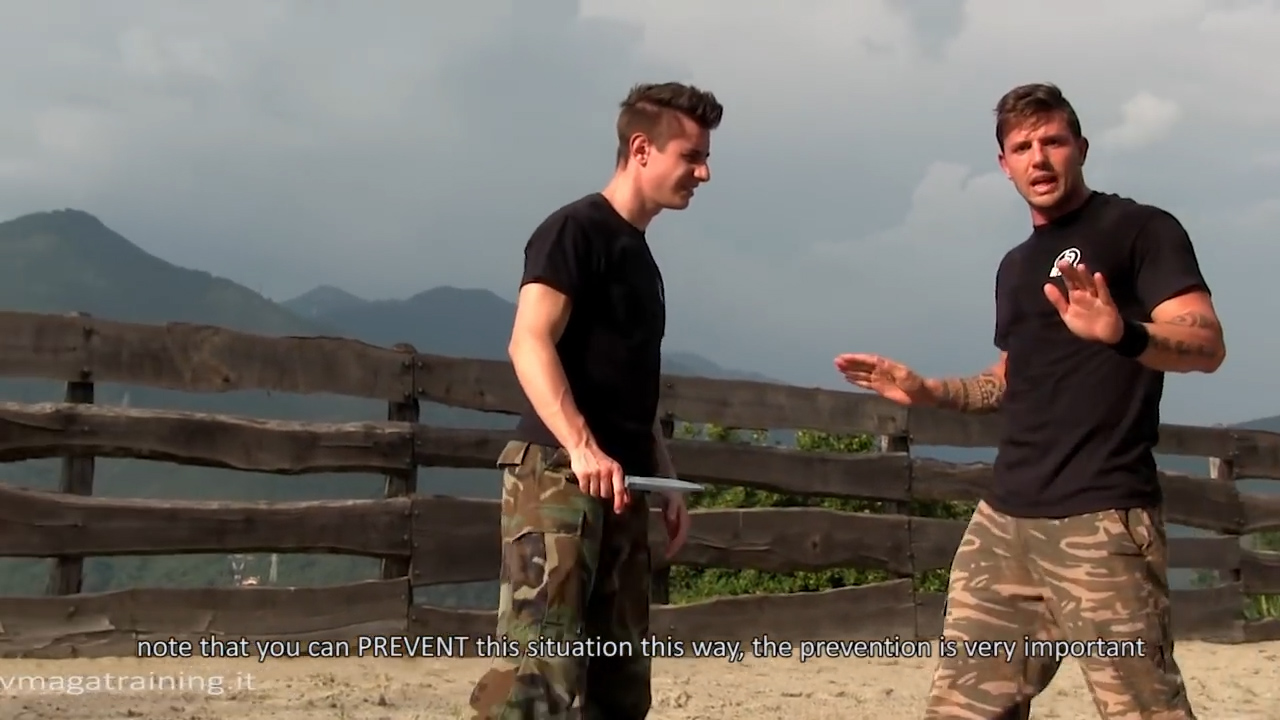knife: (557, 456, 723, 507)
